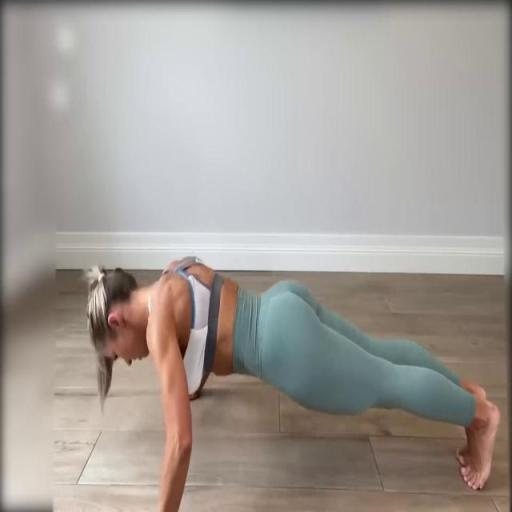Normal_Dips: (10, 237, 512, 512)
